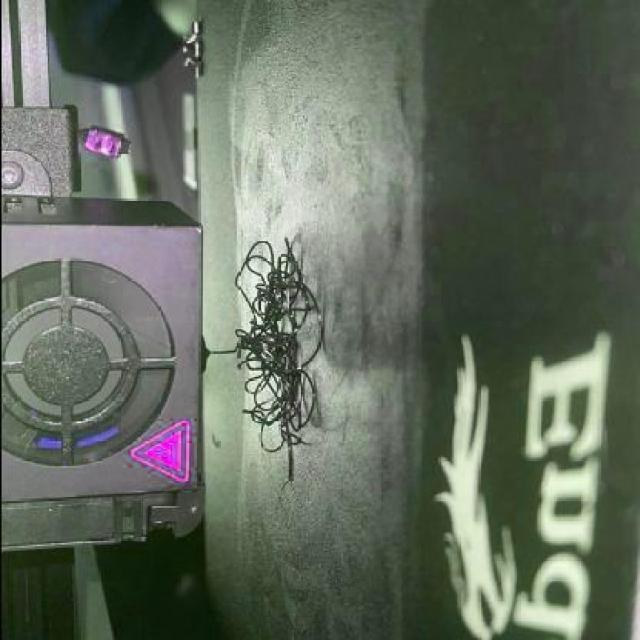Spaghetti: (232, 236, 319, 478)
